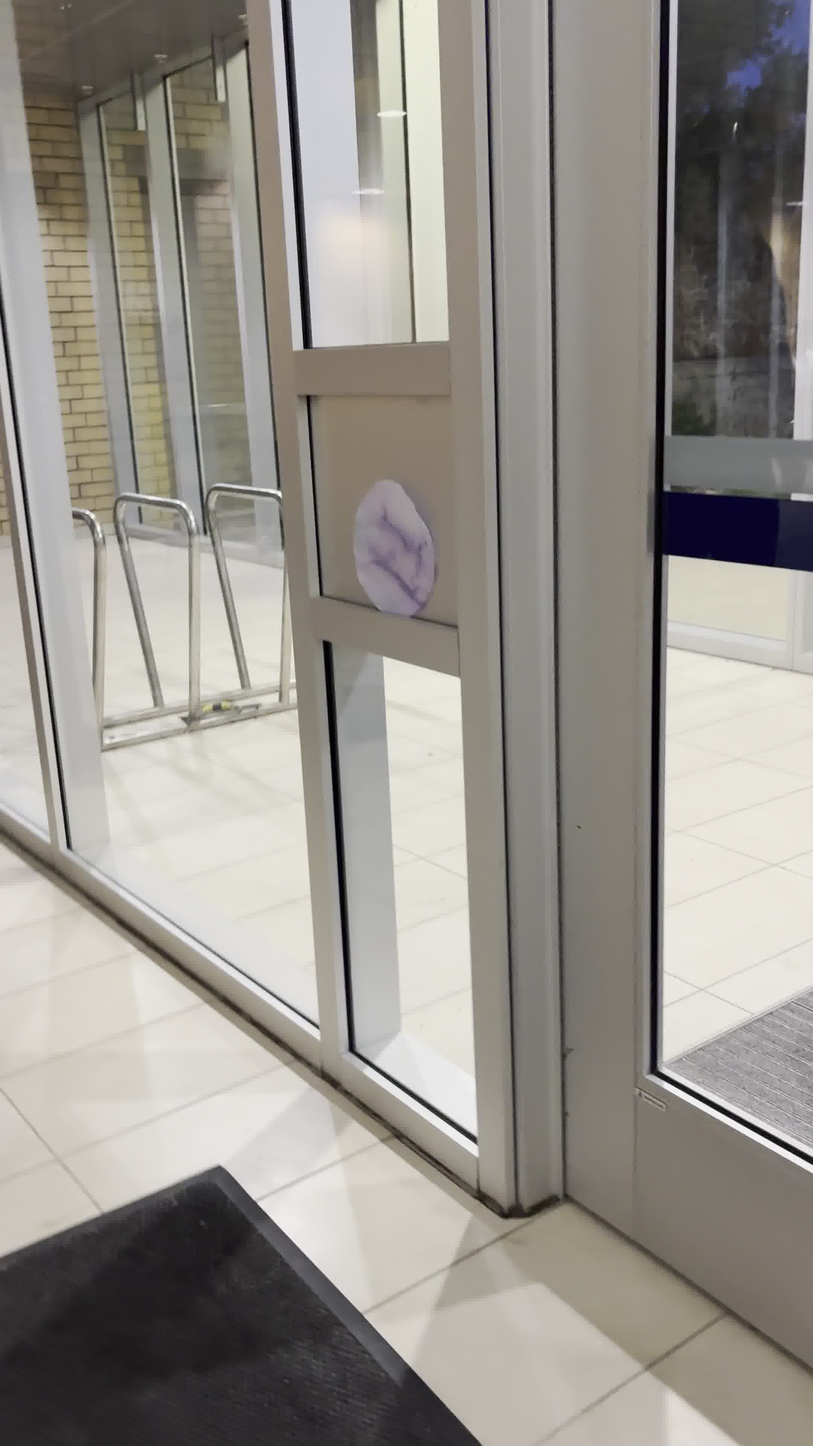Target: (345, 468, 441, 616)
